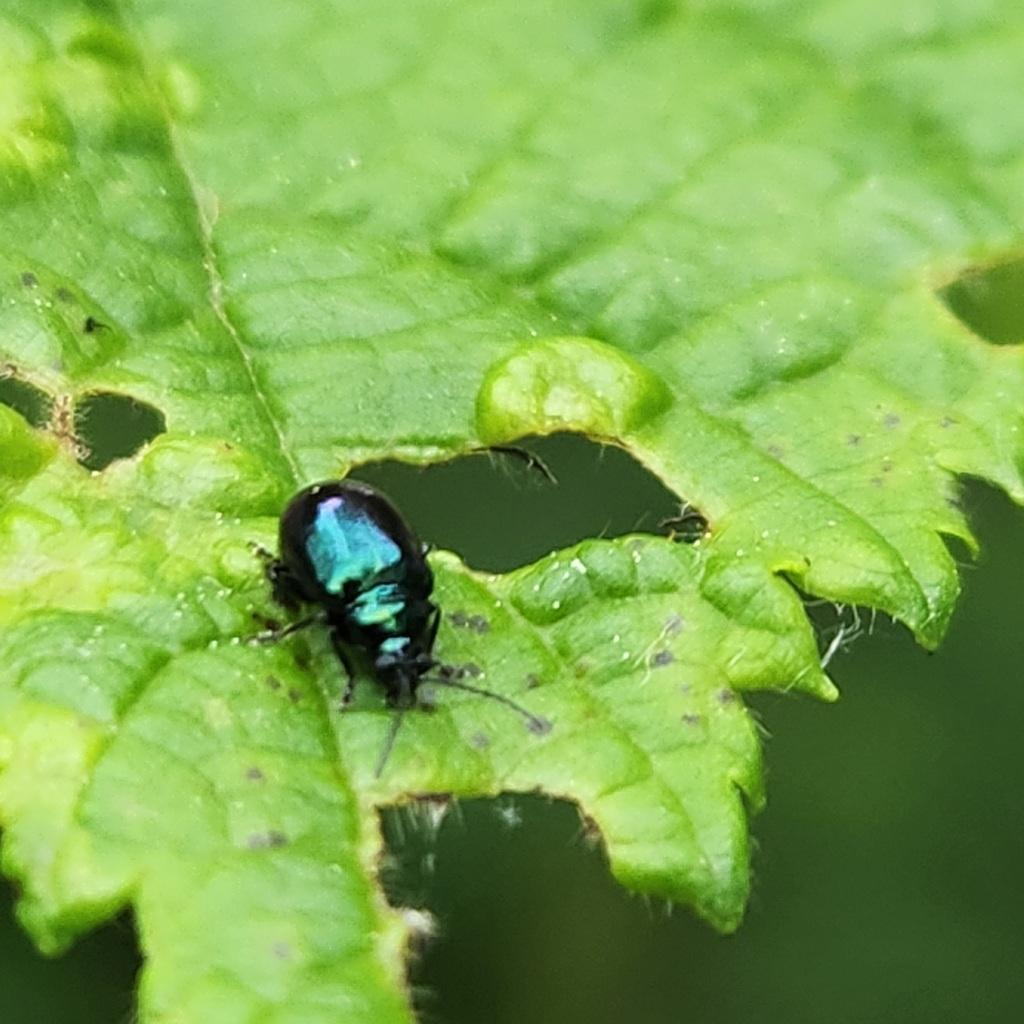flea_beetle: (189, 426, 588, 791)
